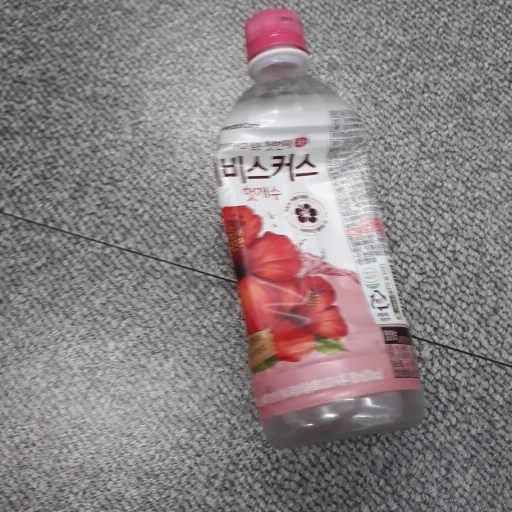Plastic_0: (214, 9, 426, 444)
